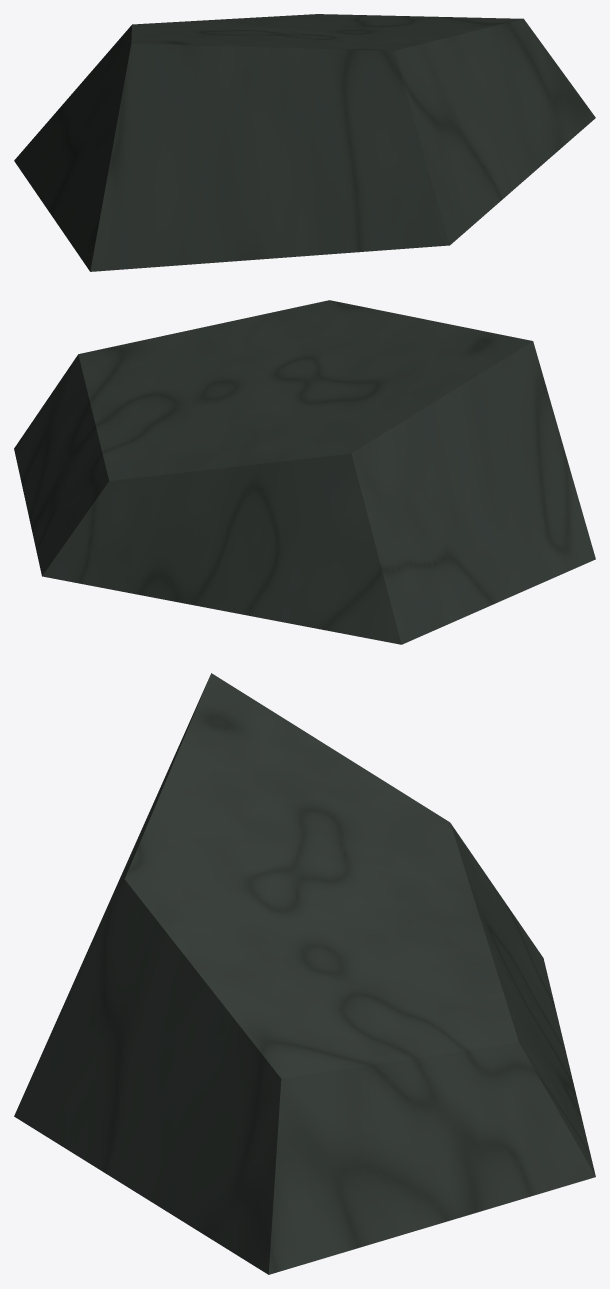
Rendered from rock.glb.
3 renders of one model, top to bottom at view 1: azimuth 30°, elevation 25°; view 2: azimuth 150°, elevation 25°; view 3: azimuth 270°, elevation 25°, orthographic. The views are drawn at different scales.
Visible parts, largest first — view 1: Flat_Slate_Outcrop; view 2: Flat_Slate_Outcrop; view 3: Flat_Slate_Outcrop.
Boxes of the visible parts, x1,y1,x2,y2 form: Flat_Slate_Outcrop: (14,14,595,271); Flat_Slate_Outcrop: (14,300,595,644); Flat_Slate_Outcrop: (14,673,595,1274).
Size of the model in its own units: 3.11 by 1.15 by 2.16.
Materials: 1 (1 with a texture image).
